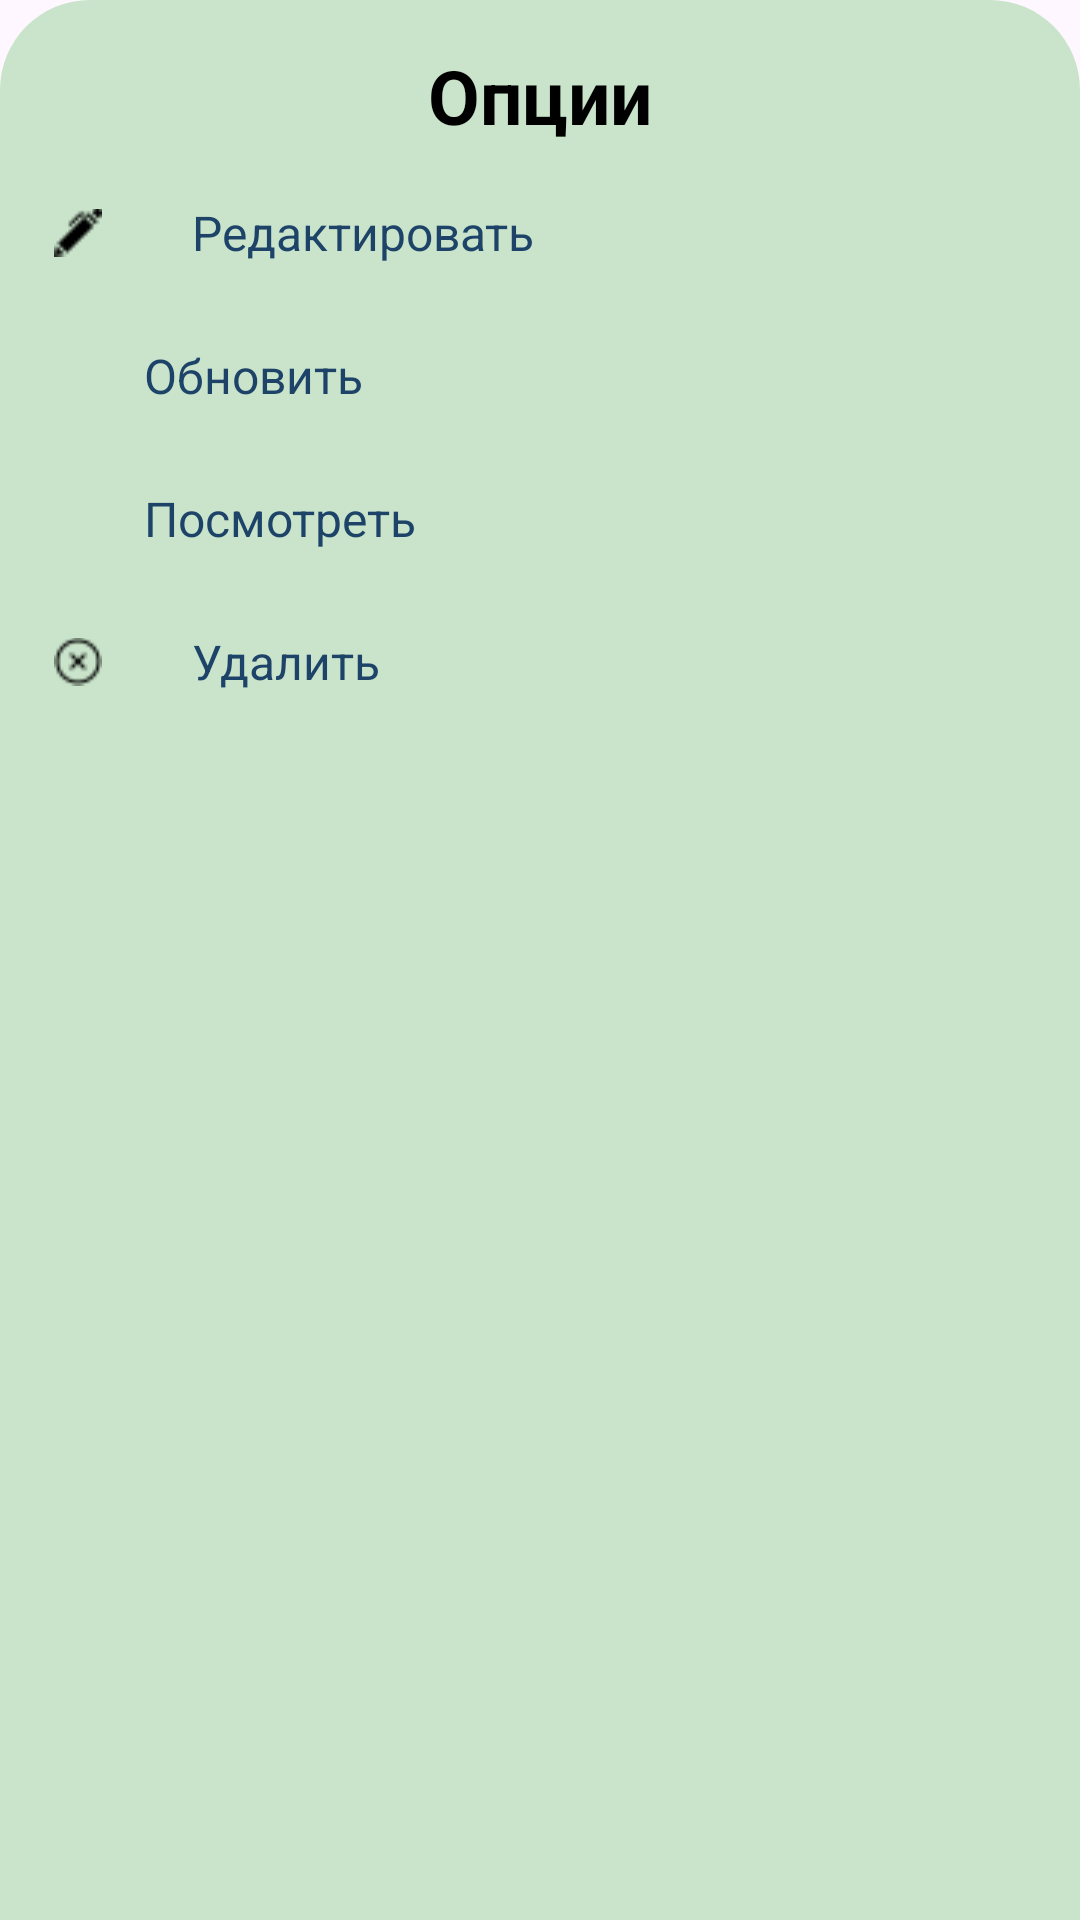

Screen size 1080px×1920px. Icon name, then its box in pixels as {"left": x1, "top": y1, "right": x2, "bottom": y2}:
delete: {"left": 54, "top": 638, "right": 102, "bottom": 686}
edit: {"left": 54, "top": 209, "right": 102, "bottom": 257}
